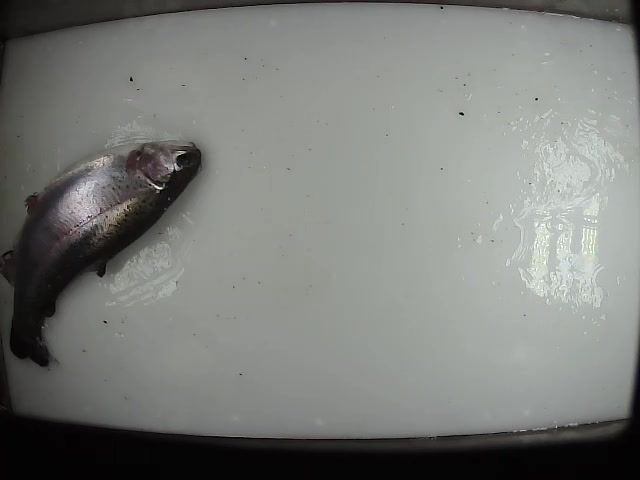Fish: (1, 140, 202, 366)
